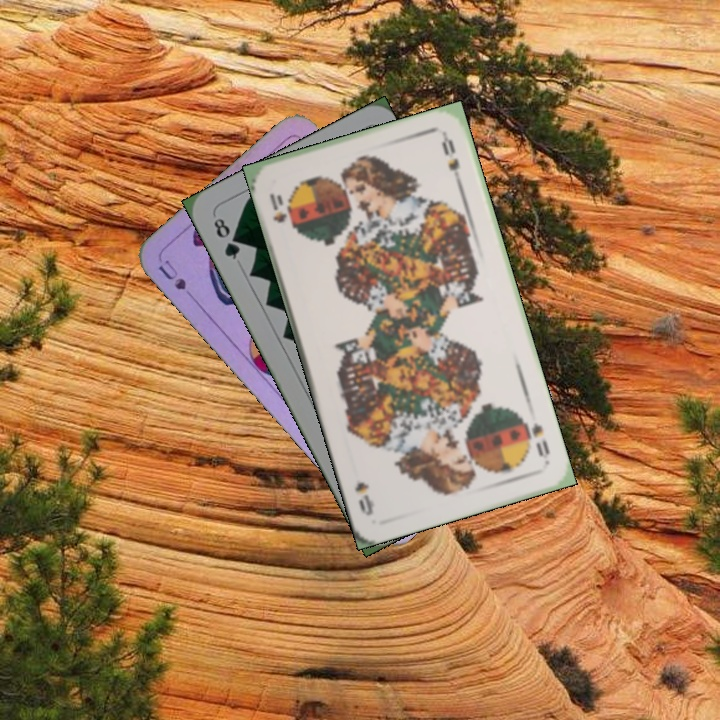G8: (209, 213, 243, 263)
SO: (265, 189, 296, 232), (527, 419, 552, 459)
SU: (154, 255, 201, 306)
